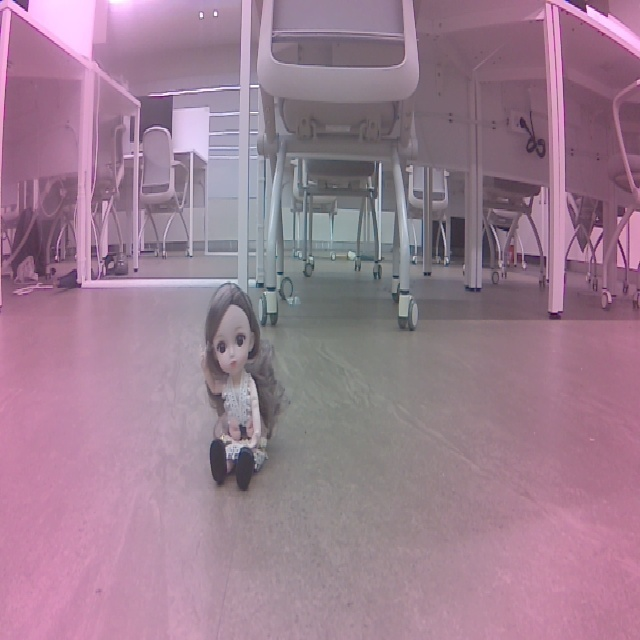장애물: (194, 278, 283, 497)
